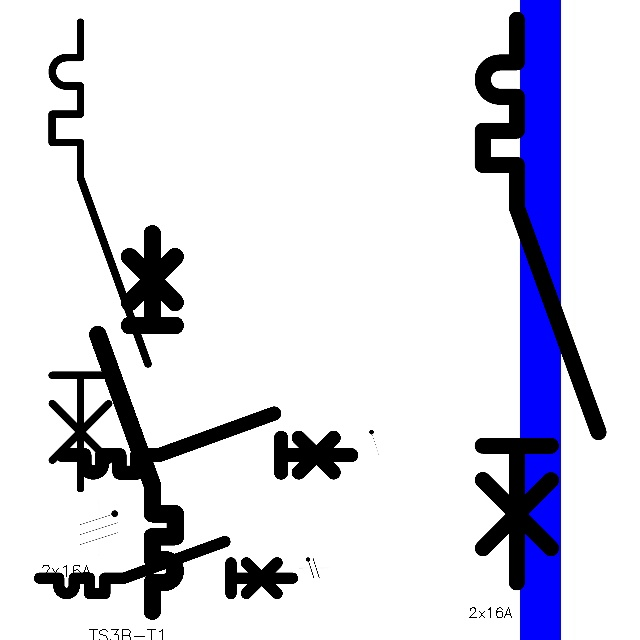interruptor_termomagnetico: (468, 5, 613, 597), (40, 10, 160, 500), (88, 224, 185, 621), (55, 406, 358, 480), (33, 535, 298, 600)
